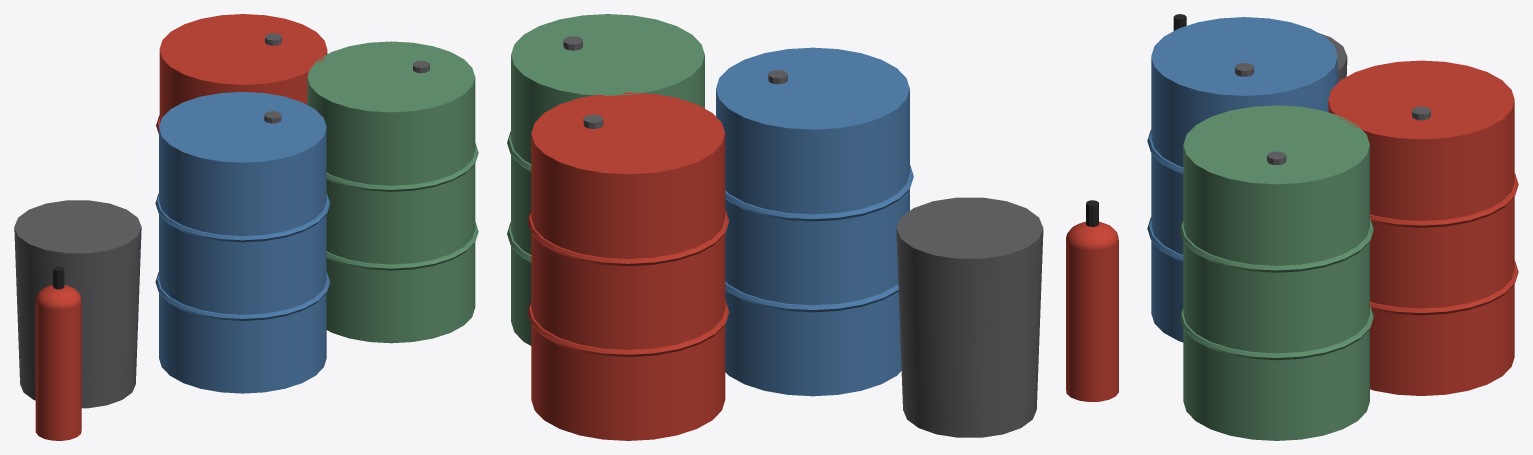
File: g_drums.fbx
3 renders of one model, left to right at view 1: azimuth 30°, elevation 25°; view 2: azimuth 150°, elevation 25°; view 3: azimuth 270°, elevation 25°, orthographic. The views are drawn at different scales.
Parts seen in each view (by area): view 1: g_drums_blue, g_drums_green, g_drums_darksteel, g_drums_red; view 2: g_drums_red, g_drums_blue, g_drums_darksteel, g_drums_green; view 3: g_drums_green, g_drums_red, g_drums_blue, g_drums_darksteel.
Boxes of the visible parts, x1=… form: g_drums_blue: x1=155, y1=92, x2=330, y2=393; g_drums_green: x1=307, y1=41, x2=478, y2=343; g_drums_darksteel: x1=14, y1=33, x2=429, y2=408; g_drums_red: x1=35, y1=14, x2=327, y2=440; g_drums_red: x1=527, y1=92, x2=1118, y2=440; g_drums_blue: x1=716, y1=47, x2=913, y2=396; g_drums_darksteel: x1=563, y1=36, x2=1043, y2=437; g_drums_green: x1=507, y1=14, x2=704, y2=345; g_drums_green: x1=1179, y1=105, x2=1373, y2=440; g_drums_red: x1=1328, y1=60, x2=1518, y2=395; g_drums_blue: x1=1147, y1=17, x2=1337, y2=342; g_drums_darksteel: x1=1235, y1=33, x2=1430, y2=164.
Size of the model in its own units: 1.88 by 0.9 by 1.15.
